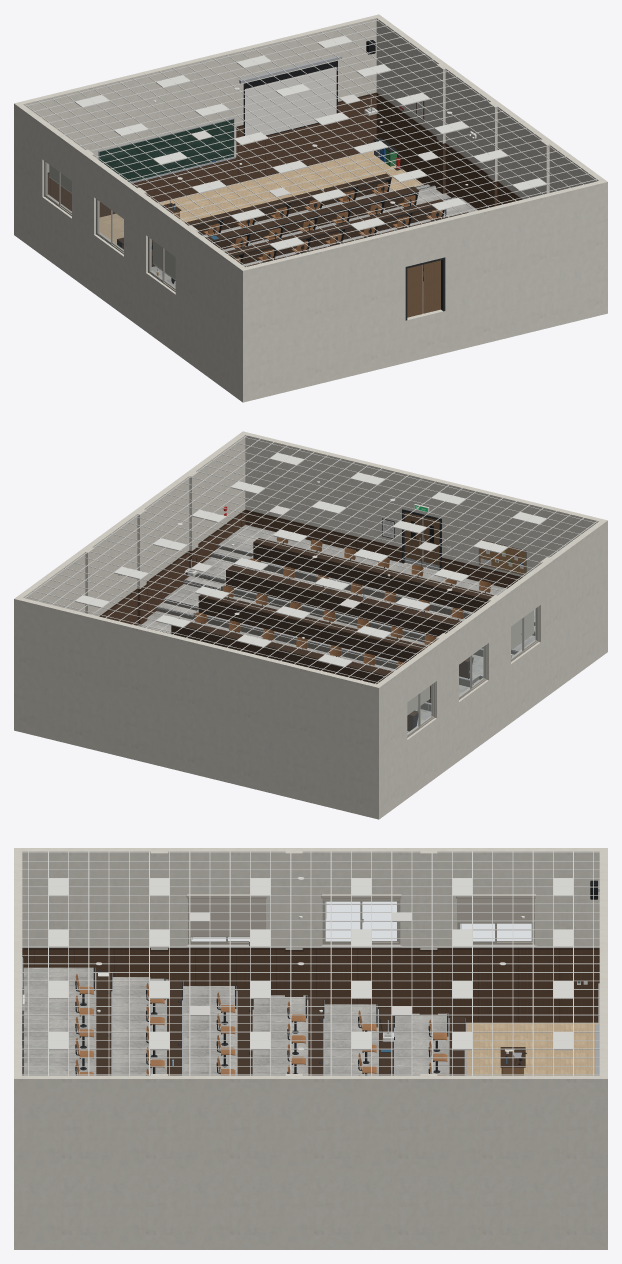
File: classroom_201.glb
3 views of the same model, one above another, from view 1: azimuth 30°, elevation 25°; view 2: azimuth 150°, elevation 25°; view 3: azimuth 270°, elevation 25° (orthographic). The views are drawn at different scales.
Parts seen in each view (by area): view 1: WALL_S, WALL_W, WALL_ceil_grid, WALL_N, WALL_E, WALL_N_wain, desks_top, floor_stage, WALL_ceil_fix, WALL_E_wain, WALL_N_screen, WALL_N_board (+14 smaller); view 2: WALL_N, WALL_W, WALL_ceil_grid, WALL_S, desks_top, WALL_E, plat_tops, WALL_ceil_fix, plat_risers, WALL_E_wain, WALL_S_wain, seats_wood (+8 smaller); view 3: WALL_E, WALL_W, WALL_ceil_grid, WALL_W_wain, plat_tops, WALL_ceil_fix, desks_top, floor_stage, WALL_W_blind, WALL_W_pil, WALL_W_glass, SEATPANS (+9 smaller).
Part boxes in pixels (x1,y1,x2,y2): WALL_S: (245,181,602,400); WALL_W: (14,102,248,402); WALL_ceil_grid: (24,18,597,266); WALL_N: (20,15,376,172); WALL_E: (374,14,607,314); WALL_N_wain: (47,94,376,217); desks_top: (117,173,468,281); floor_stage: (99,151,423,244); WALL_ceil_fix: (75,36,546,250); WALL_E_wain: (376,94,520,210); WALL_N_screen: (245,67,336,135); WALL_N_board: (99,119,233,182); WALL_N: (19,598,376,817); WALL_W: (373,519,607,819); WALL_ceil_grid: (24,435,597,683); WALL_S: (245,432,601,576); desks_top: (171,538,493,731); WALL_E: (14,431,247,731); plat_tops: (137,524,535,731); WALL_ceil_fix: (75,453,546,667); plat_risers: (156,546,535,711); WALL_E_wain: (101,511,245,625); WALL_S_wain: (245,511,520,588); seats_wood: (195,537,490,668); WALL_E: (14,1075,607,1249); WALL_W: (14,848,607,980); WALL_ceil_grid: (22,851,599,1075); WALL_W_wain: (23,949,598,1022); plat_tops: (23,967,449,1075); WALL_ceil_fix: (49,878,572,1050); desks_top: (96,971,464,1075); floor_stage: (466,1022,598,1075); WALL_W_blind: (186,894,535,936); WALL_W_pil: (151,851,437,949); WALL_W_glass: (191,902,531,941); SEATPANS: (79,986,447,1075).
Size of the model in its own units: 16.25 by 5.6 by 17.65.
32 materials, 13 textured.
